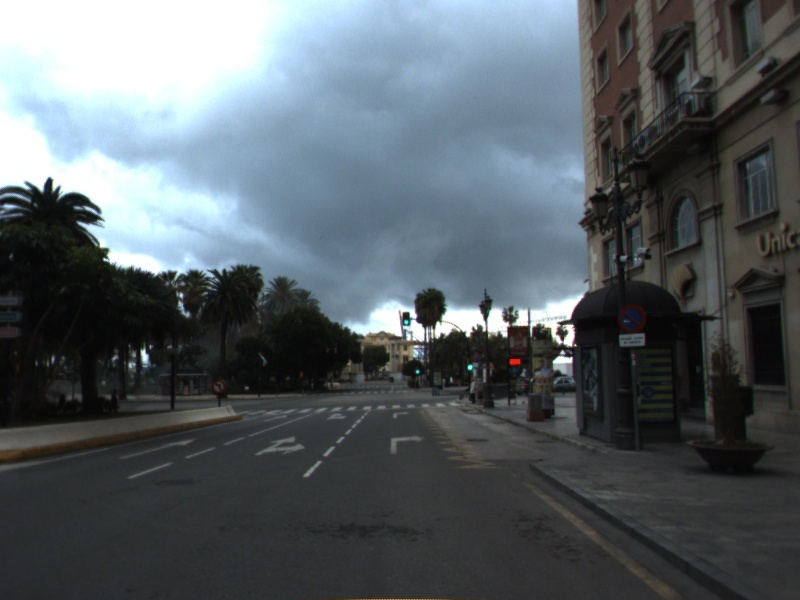RIGHT: (387, 432, 426, 457), (390, 409, 412, 421)
STRAIGHT: (116, 436, 199, 461), (261, 413, 288, 424)
STRAIGHT_RIGHT: (252, 434, 309, 458), (325, 411, 349, 422)
